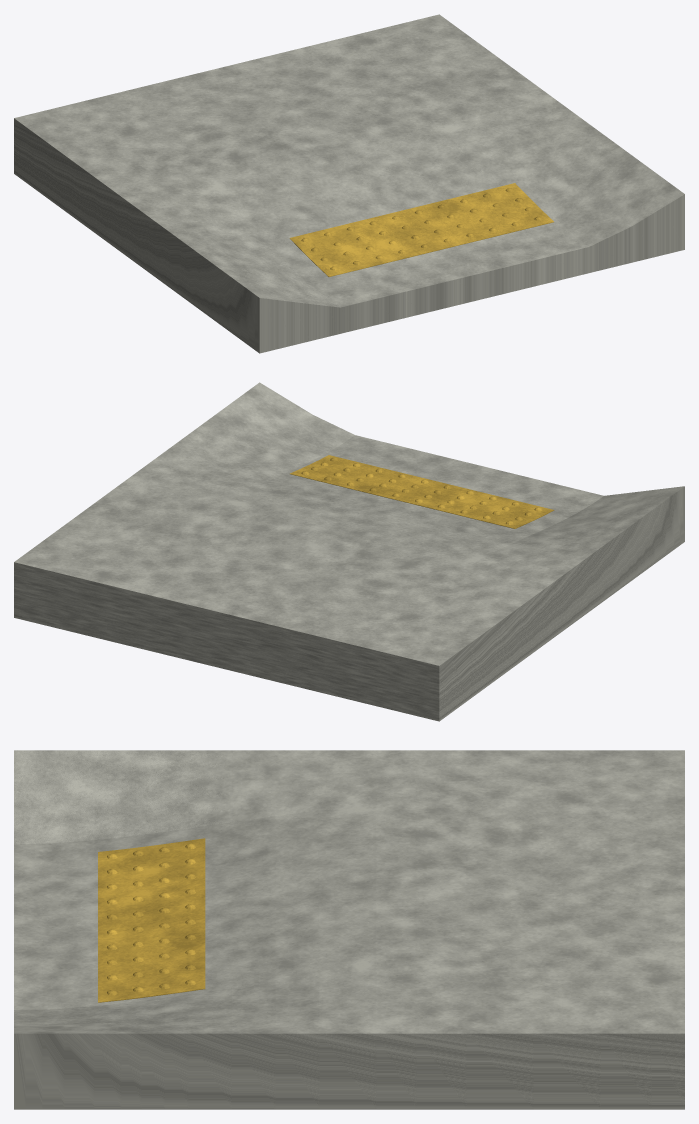
File: PZ_Ramp_Crosswalk_2x2.glb
The picture shows the model from 3 angles, top to bottom: view 1: azimuth 30°, elevation 25°; view 2: azimuth 150°, elevation 25°; view 3: azimuth 270°, elevation 25°; orthographic projection. The views are drawn at different scales.
Visible parts, largest first — view 1: PZ_Ramp_Crosswalk_2x2__Monolithic_Ramp_2x2, PZ_Ramp_Crosswalk_2x2__Tactile_Warning_Base, PZ_Ramp_Crosswalk_2x2__Tactile_Domes; view 2: PZ_Ramp_Crosswalk_2x2__Monolithic_Ramp_2x2, PZ_Ramp_Crosswalk_2x2__Tactile_Warning_Base, PZ_Ramp_Crosswalk_2x2__Tactile_Domes; view 3: PZ_Ramp_Crosswalk_2x2__Monolithic_Ramp_2x2, PZ_Ramp_Crosswalk_2x2__Tactile_Warning_Base, PZ_Ramp_Crosswalk_2x2__Tactile_Domes.
Boxes of the visible parts, left/top/right/bottom form: PZ_Ramp_Crosswalk_2x2__Monolithic_Ramp_2x2: left=14, top=14, right=684, bottom=353; PZ_Ramp_Crosswalk_2x2__Tactile_Warning_Base: left=289, top=183, right=553, bottom=276; PZ_Ramp_Crosswalk_2x2__Tactile_Domes: left=301, top=188, right=542, bottom=270; PZ_Ramp_Crosswalk_2x2__Monolithic_Ramp_2x2: left=14, top=382, right=684, bottom=721; PZ_Ramp_Crosswalk_2x2__Tactile_Warning_Base: left=290, top=455, right=554, bottom=528; PZ_Ramp_Crosswalk_2x2__Tactile_Domes: left=301, top=457, right=542, bottom=524; PZ_Ramp_Crosswalk_2x2__Monolithic_Ramp_2x2: left=14, top=750, right=684, bottom=1109; PZ_Ramp_Crosswalk_2x2__Tactile_Warning_Base: left=98, top=838, right=205, bottom=1002; PZ_Ramp_Crosswalk_2x2__Tactile_Domes: left=107, top=843, right=195, bottom=995.
Bounding box in the file's own units: 2 × 0.25 × 2.
2 materials, 2 textured.
